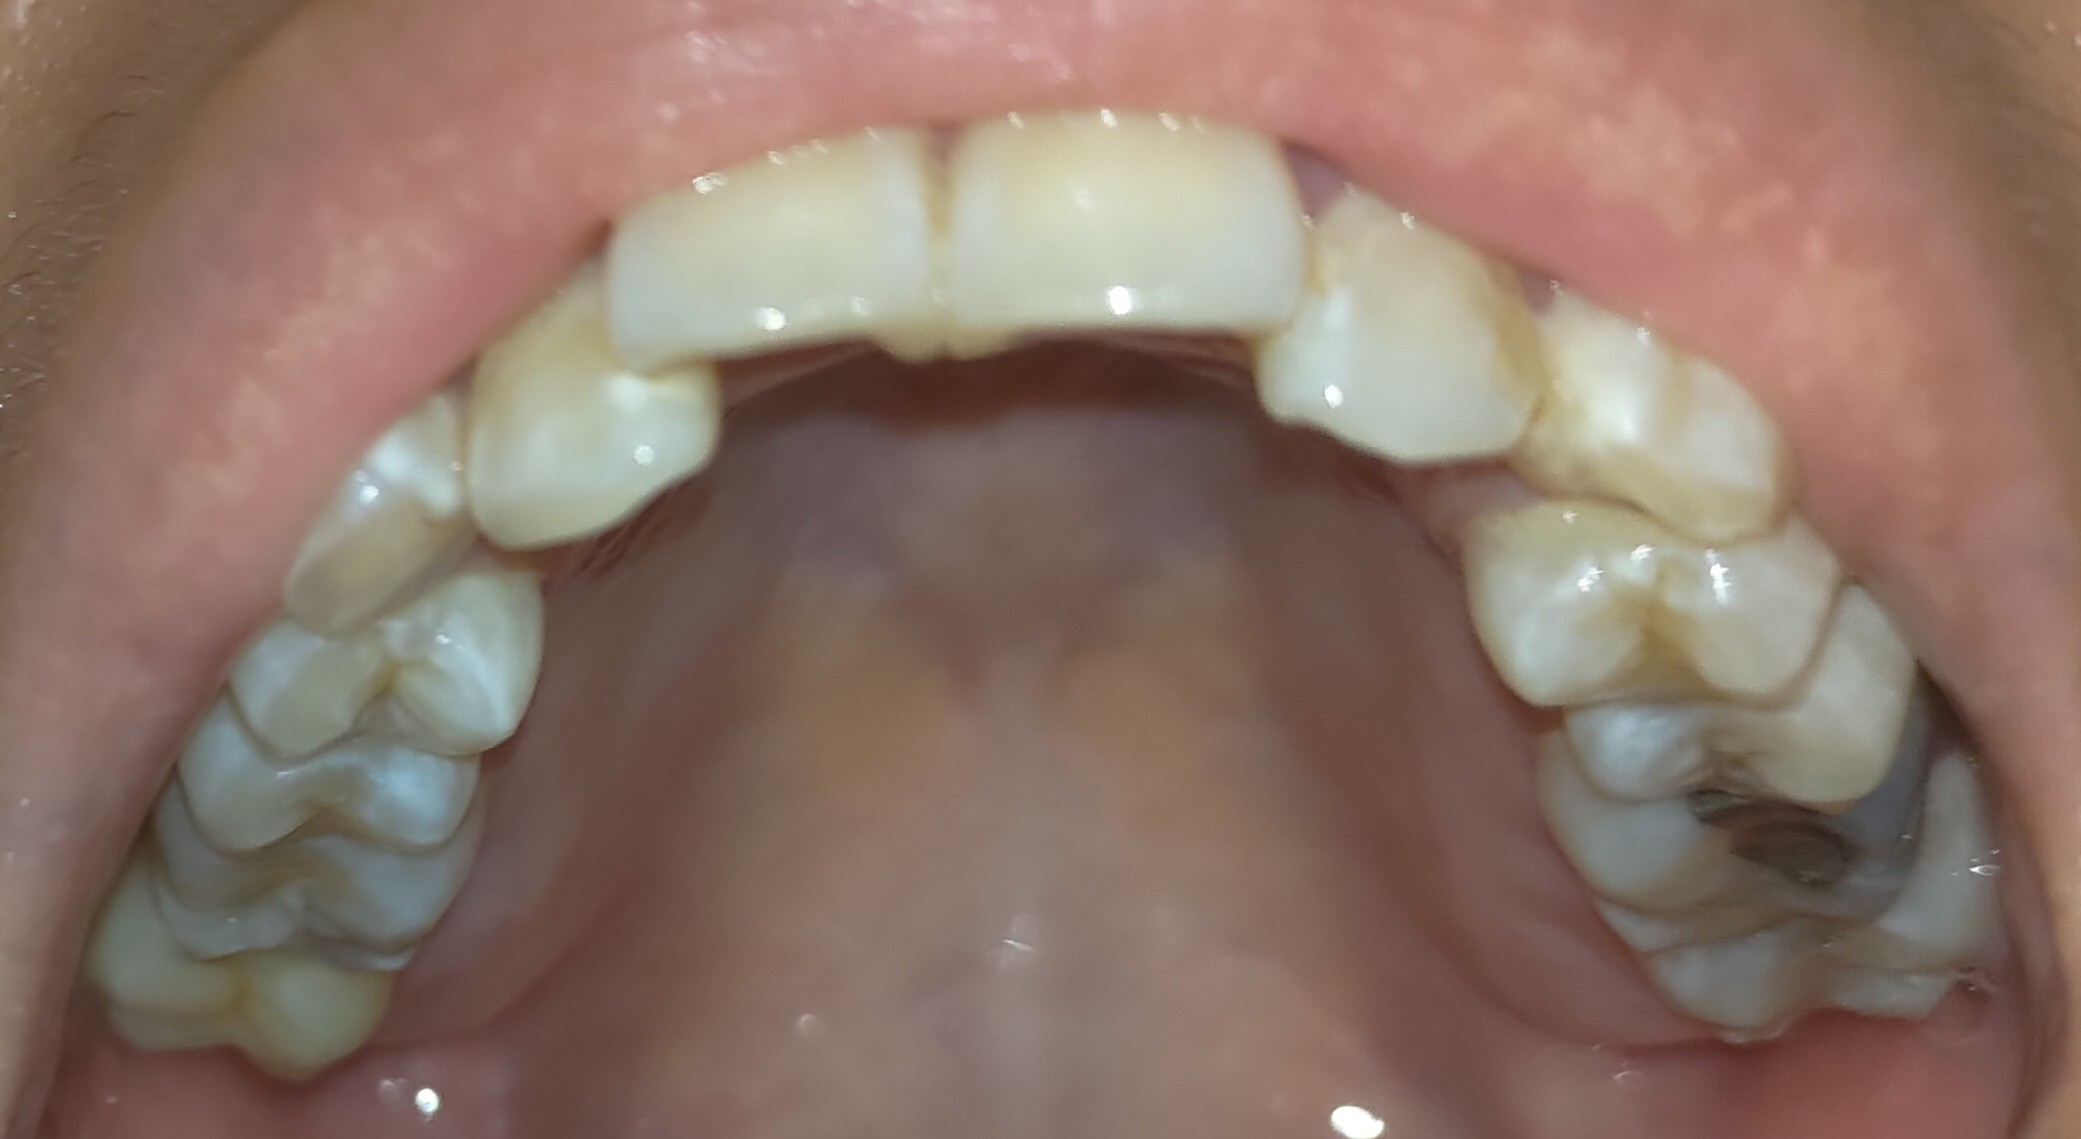teeth: (963, 97, 1321, 316), (610, 122, 938, 345), (1472, 511, 1840, 707), (1254, 201, 1533, 453), (470, 257, 712, 541), (1523, 292, 1802, 533), (258, 582, 540, 759)
